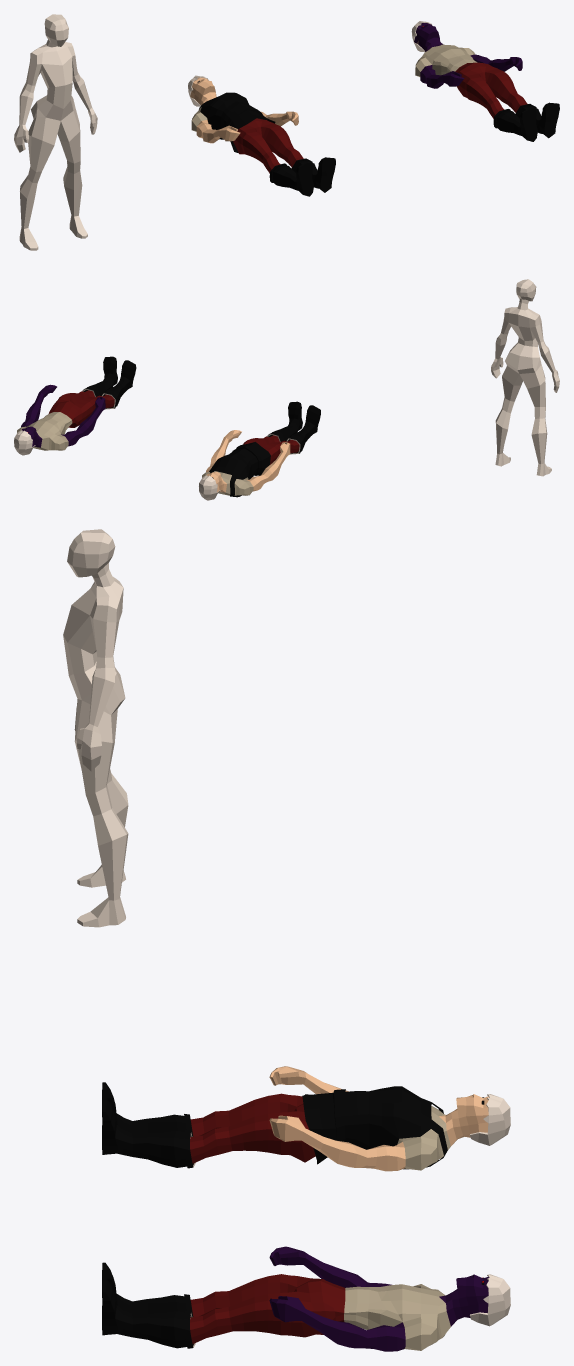
File: tales.fbx
3 renders of one model, top to bottom at view 1: azimuth 30°, elevation 25°; view 2: azimuth 150°, elevation 25°; view 3: azimuth 270°, elevation 25°, orthographic. The views are drawn at different scales.
Visible parts, largest first — view 1: female, Tales, Tales.001; view 2: female, Tales, Tales.001; view 3: Tales, Tales.001, female.
Boxes of the visible parts, box(x1,y1,x2,y2) form: female: box(14, 14, 97, 250); Tales: box(188, 75, 335, 196); Tales.001: box(411, 21, 559, 141); female: box(491, 279, 559, 476); Tales: box(199, 401, 320, 500); Tales.001: box(14, 356, 136, 455); Tales: box(102, 1066, 510, 1171); Tales.001: box(102, 1246, 510, 1351); female: box(63, 529, 128, 927).
Bounding box in the file's own units: 447 × 189 × 185.
